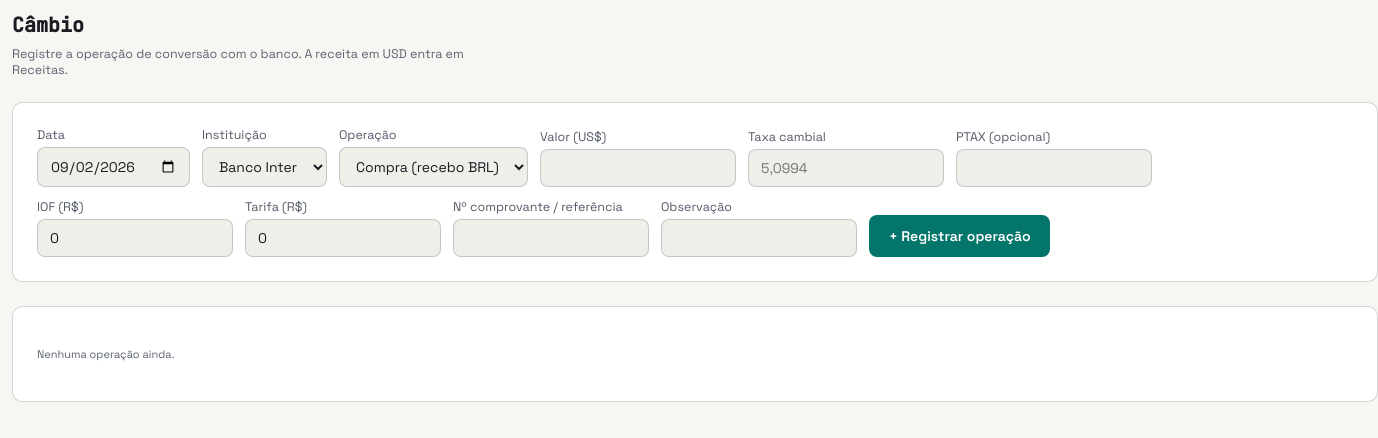
Test: CambioPage › validates the USD amount inline on blur
Type "0" into the field labelled "Valor (US$)" at (638, 168), box [540, 149, 736, 187]
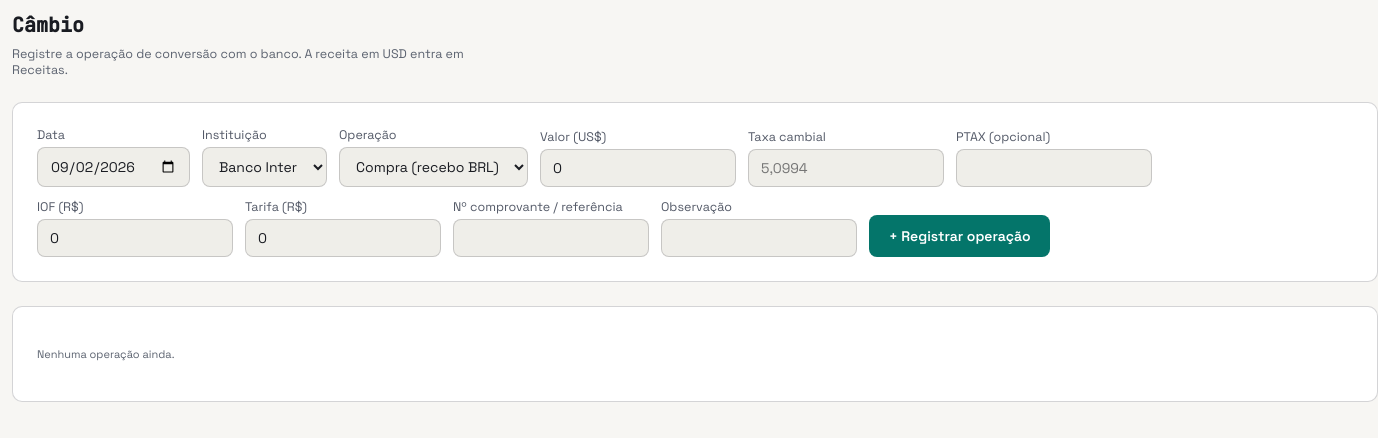
Leave the field labelled "Valor (US$)", box [540, 149, 736, 187]
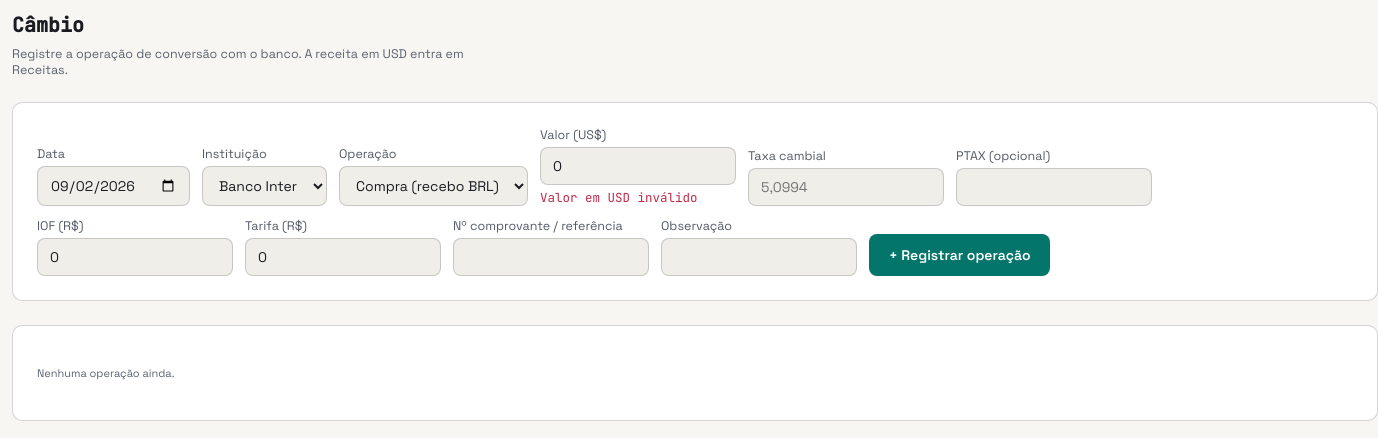
Result: the text "Valor em USD inválido" is shown at [540, 189, 698, 206]
